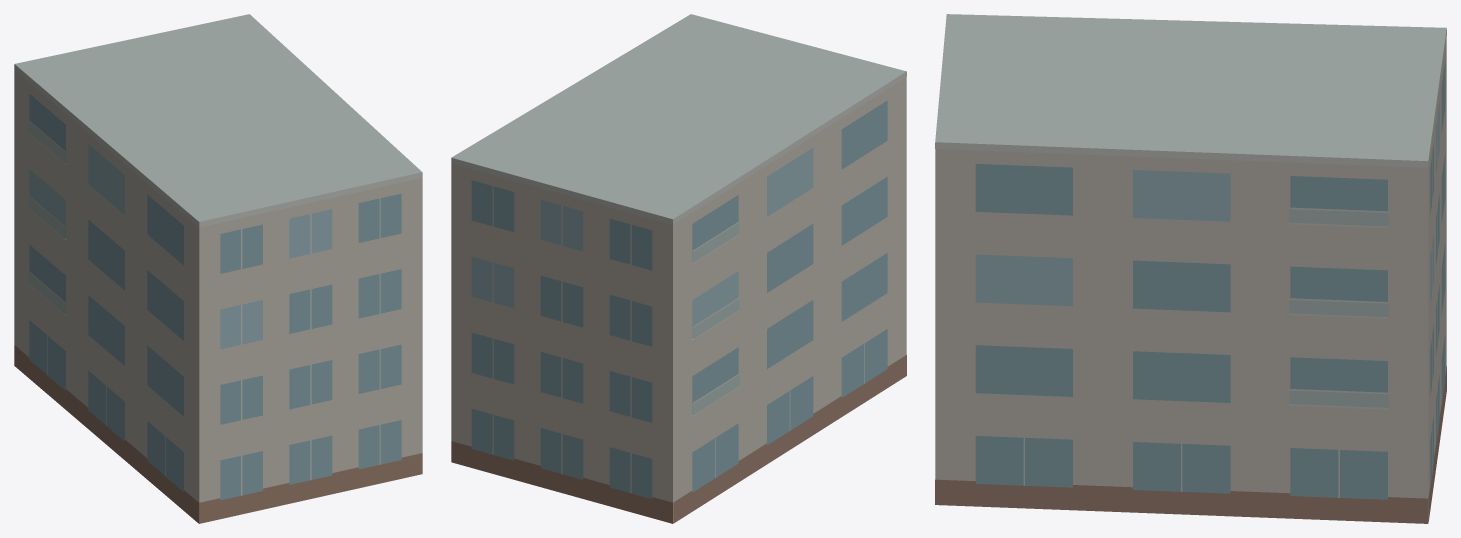
The model's file is survey-upis-33006071.glb.
The picture shows the model from 3 angles, left to right: view 1: azimuth 30°, elevation 25°; view 2: azimuth 150°, elevation 25°; view 3: azimuth 270°, elevation 25°; orthographic projection. The views are drawn at different scales.
Visible parts, largest first — view 1: survey-upis-33006071.tmp; view 2: survey-upis-33006071.tmp; view 3: survey-upis-33006071.tmp.
Part boxes in pixels (x1,y1,x2,y2): survey-upis-33006071.tmp: (14, 14, 422, 523); survey-upis-33006071.tmp: (451, 14, 906, 523); survey-upis-33006071.tmp: (935, 14, 1446, 523).
Size of the model in its own units: 11.58 by 13.3 by 17.01.
